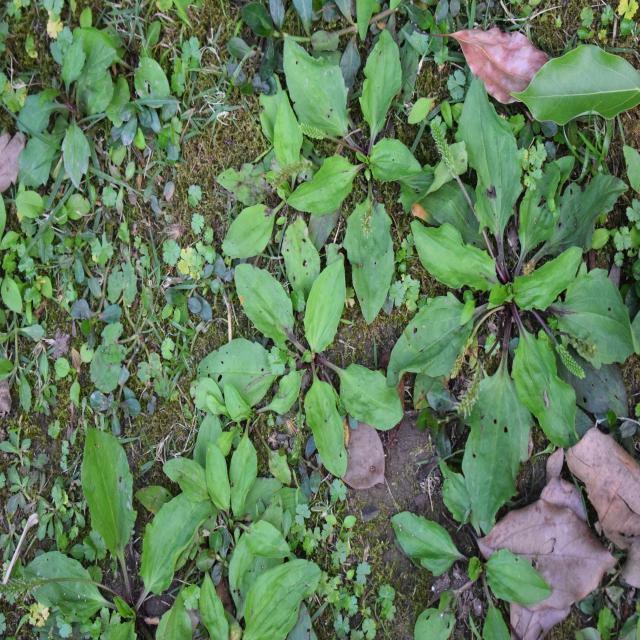plantain: (401, 111, 625, 518), (277, 46, 437, 299), (214, 252, 400, 452)
